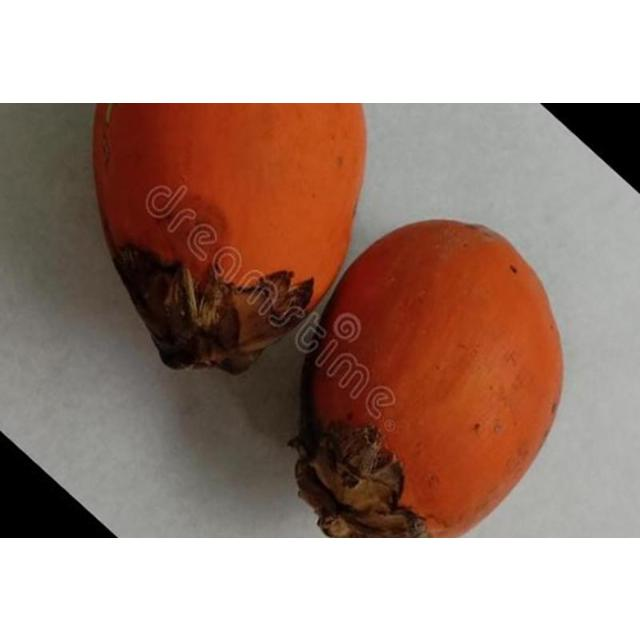good: (293, 219, 566, 536), (93, 102, 368, 375)
